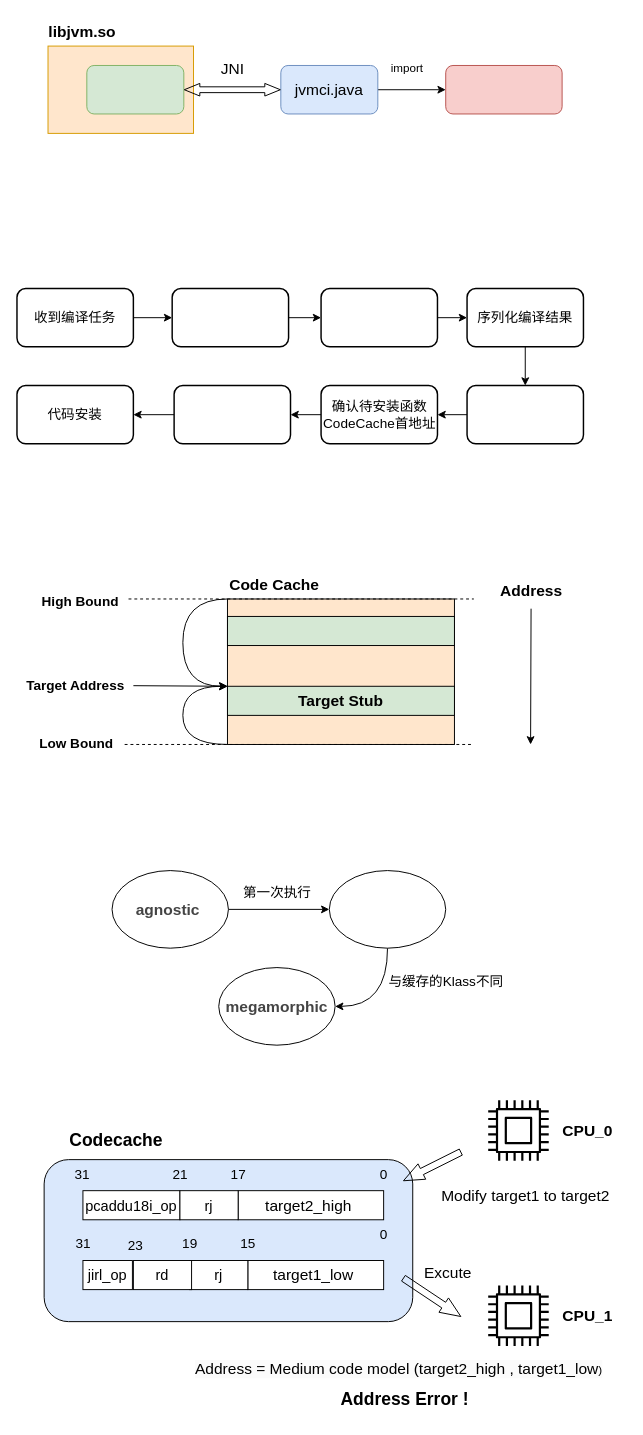
Some shapes in this 643 by 1435 pixel diagram are drawn without their labels. Here are the shapes that lost their labels. From the top down, the centre of each, then its label:
At (x=135, y=89): "jvmci.cpp".
At (x=503, y=89): "Java Compiler".
At (x=230, y=317): "调用Java编译器".
At (x=379, y=317): "编译目标函数".
At (x=232, y=414): "执行代码重定位".
At (x=525, y=414): "调用CodeInstall 函数".
At (x=340, y=630): "Nmethod main code".
At (x=387, y=909): "monomorphic".
